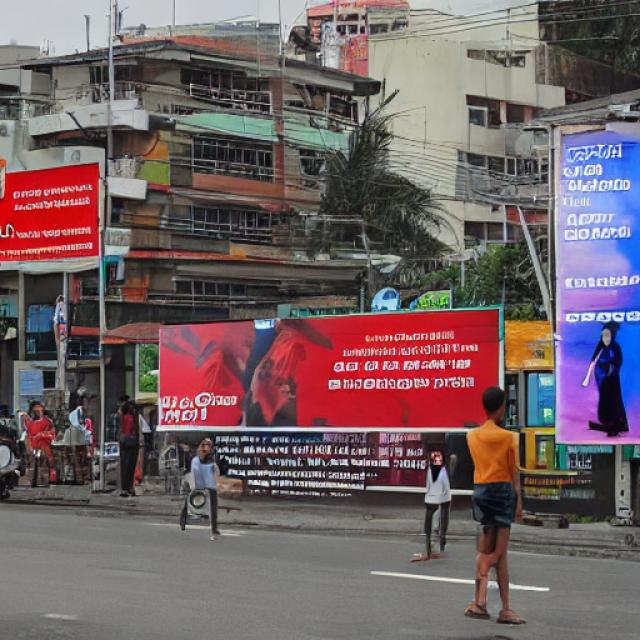Billboard: (158, 305, 507, 435), (550, 121, 640, 450)
